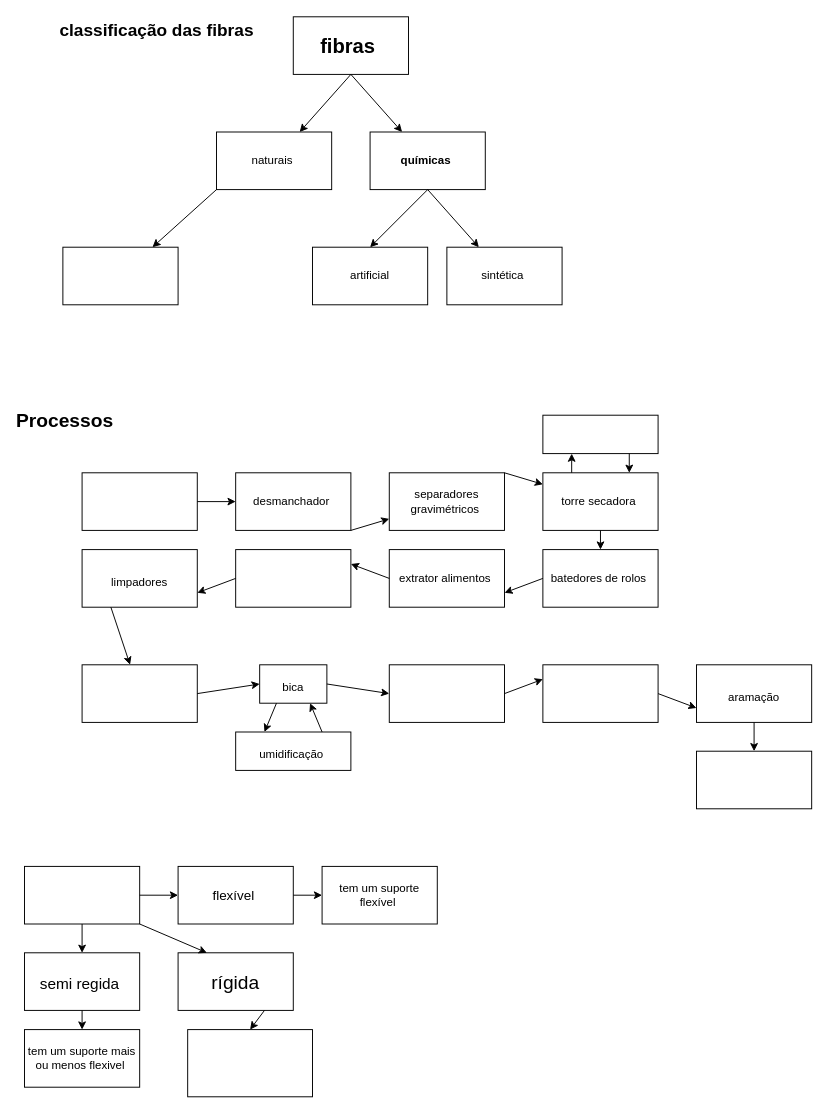
Some shapes in this 828 by 1115 pixel diagram are drawn without their labels. The box of each missing label's shape, as (x1, y1, x2, y2) in pixels:
animal vegetal mineral: (62, 246, 178, 305)
calcador: (388, 664, 504, 722)
cardagem: (24, 865, 140, 924)
condensador: (81, 664, 197, 722)
descaroçador: (235, 549, 351, 607)
embalagem: (696, 750, 812, 809)
pesagem: (81, 472, 197, 530)
prensa hidráulica: (542, 664, 658, 722)
secagem: (542, 414, 658, 454)
tem uma fita metálica com dentes de serra: (187, 1029, 312, 1097)
